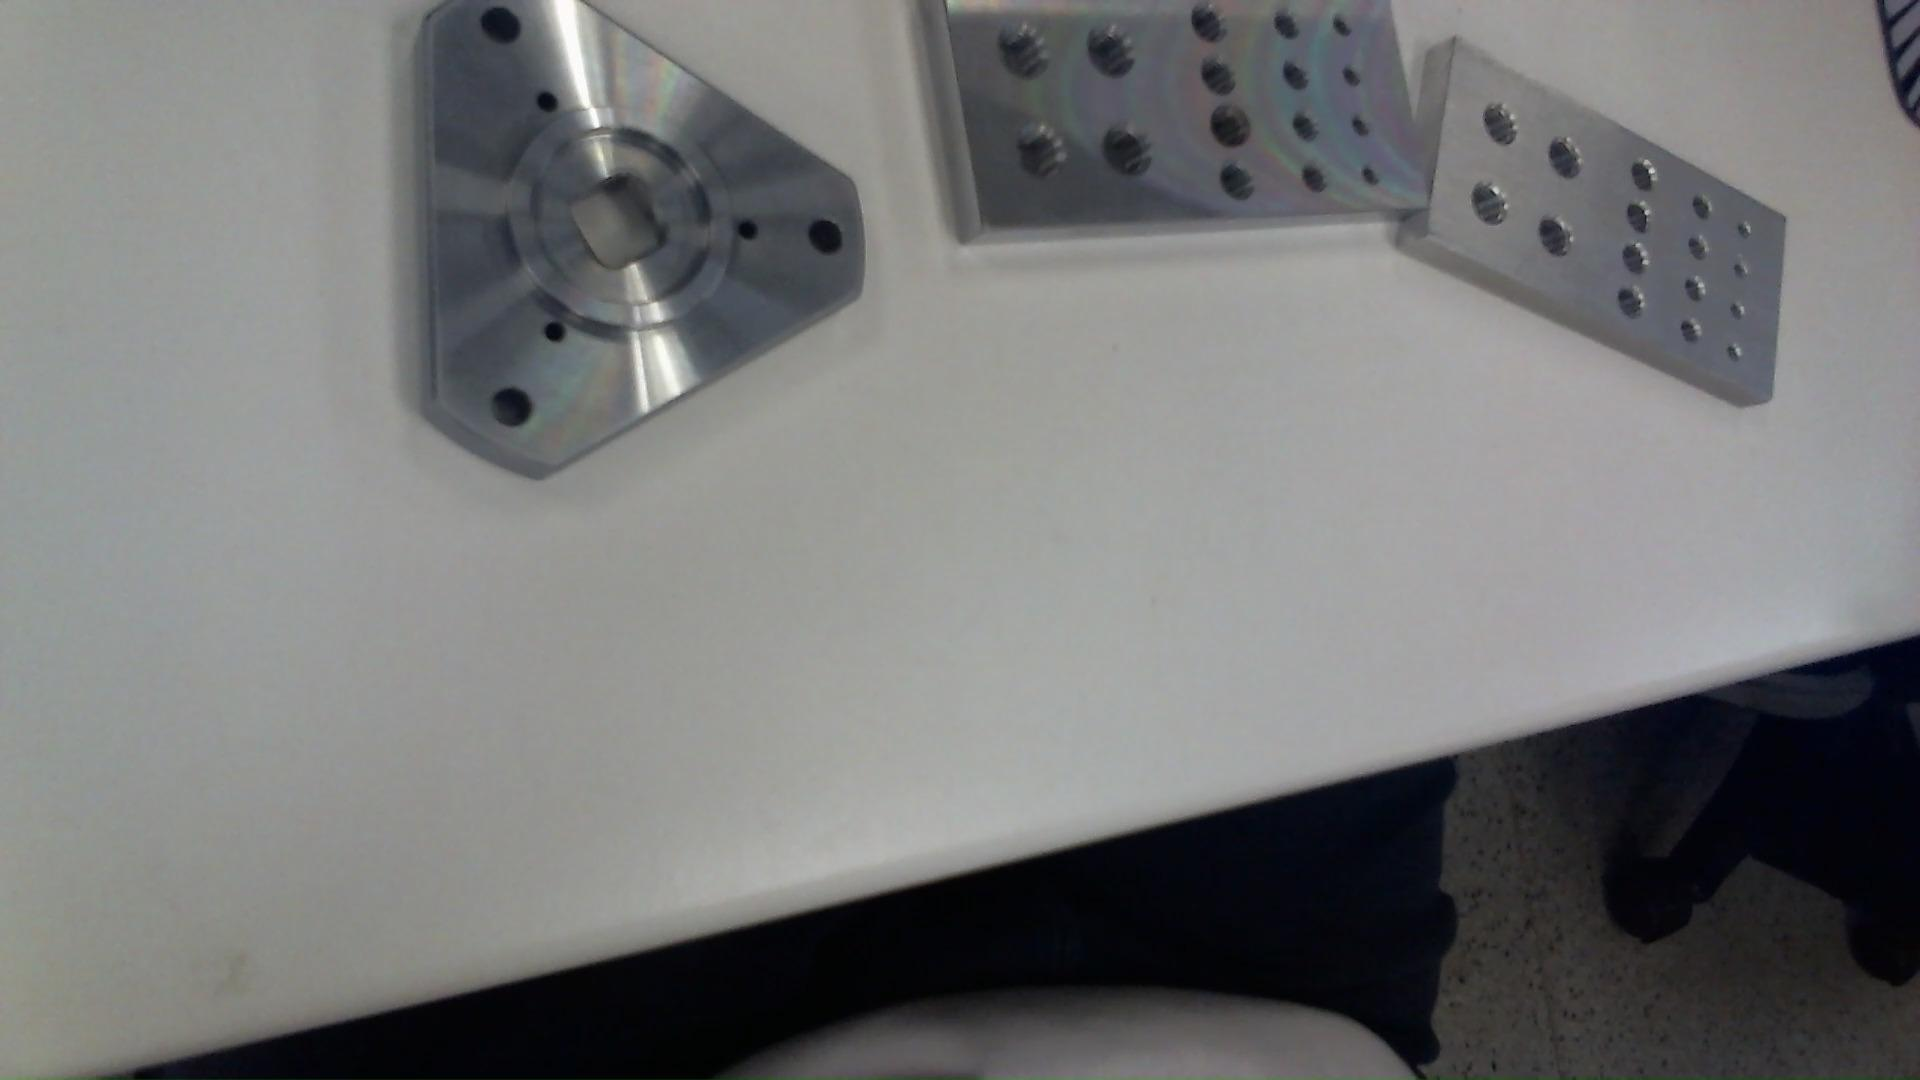hole: (1014, 116, 1071, 183), (1104, 113, 1159, 175), (996, 21, 1048, 76), (483, 377, 534, 434), (1193, 54, 1247, 104), (1535, 204, 1577, 268), (1469, 171, 1510, 236), (472, 0, 522, 51), (1088, 25, 1134, 80), (1216, 166, 1265, 218), (1482, 94, 1519, 156), (1212, 99, 1254, 150), (803, 211, 848, 258), (1188, 3, 1234, 47), (1547, 132, 1585, 181), (1609, 280, 1648, 324), (1274, 55, 1317, 92), (1286, 103, 1320, 148), (1626, 150, 1659, 194), (1329, 8, 1362, 50), (1298, 164, 1331, 200), (1619, 244, 1652, 280), (1625, 198, 1654, 235), (1270, 8, 1303, 40), (1676, 314, 1705, 349), (1335, 61, 1366, 91), (1691, 187, 1718, 222), (1683, 272, 1710, 301), (534, 82, 562, 111), (733, 212, 760, 243), (1348, 109, 1374, 140), (1684, 231, 1709, 261), (542, 320, 568, 347), (1357, 161, 1382, 189), (1725, 336, 1749, 360), (1734, 216, 1754, 244), (1734, 253, 1750, 285), (1729, 298, 1747, 320)
